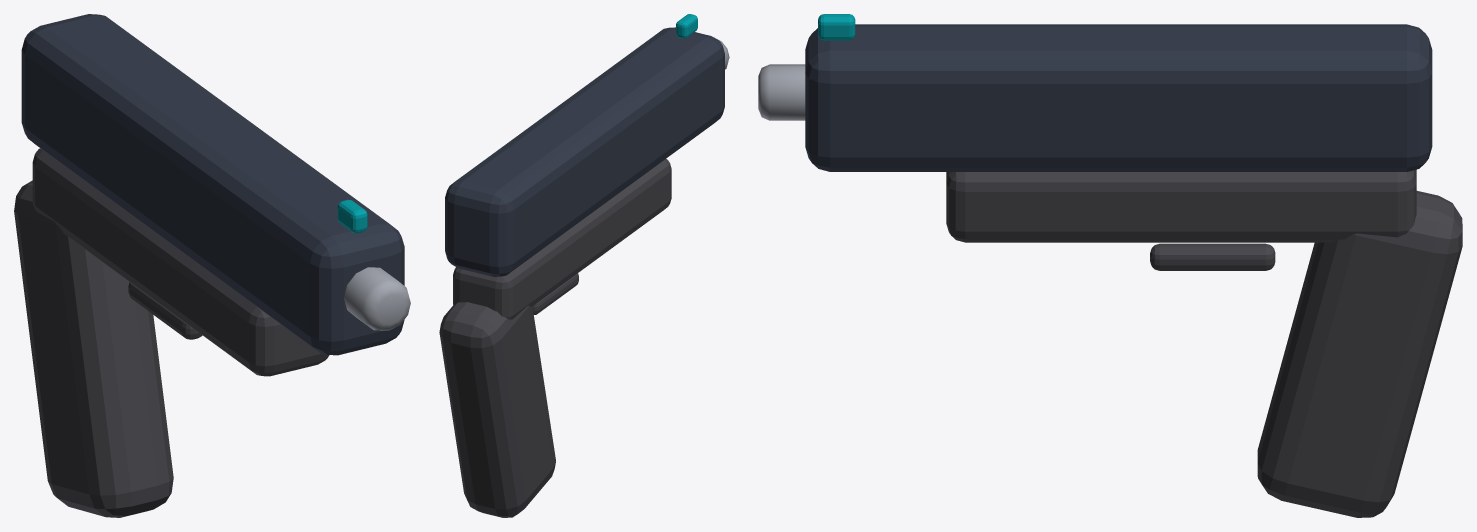
File: pistol.glb
3 renders of one model, left to right at view 1: azimuth 30°, elevation 25°; view 2: azimuth 150°, elevation 25°; view 3: azimuth 270°, elevation 25°, orthographic. The views are drawn at different scales.
Visible parts, largest first — view 1: pistol; view 2: pistol; view 3: pistol.
Part boxes in pixels (x1=…): pistol: x1=14, y1=14, x2=410, y2=517; pistol: x1=439, y1=14, x2=729, y2=517; pistol: x1=758, y1=14, x2=1462, y2=517.
Size of the model in its own units: 0.034 by 0.1734 by 0.2247.
